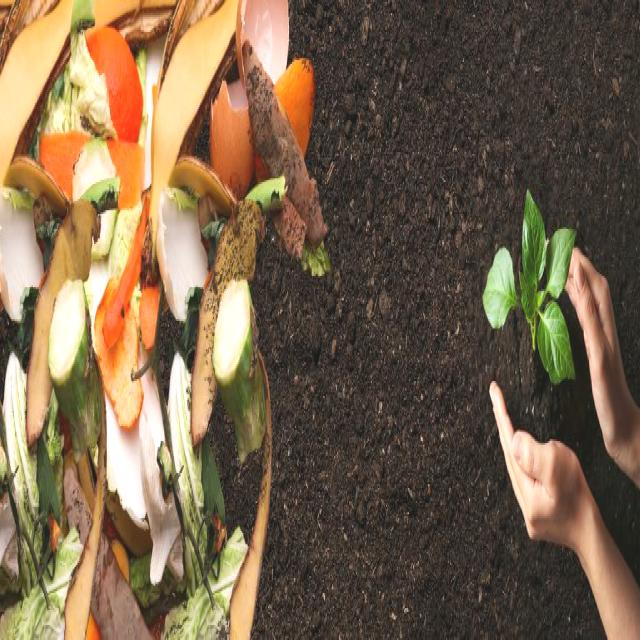organic: (155, 152, 293, 454), (148, 352, 249, 636), (0, 347, 84, 634), (206, 169, 312, 292), (38, 0, 123, 150), (209, 74, 257, 204), (108, 202, 144, 323), (522, 186, 546, 307), (543, 224, 578, 306)
